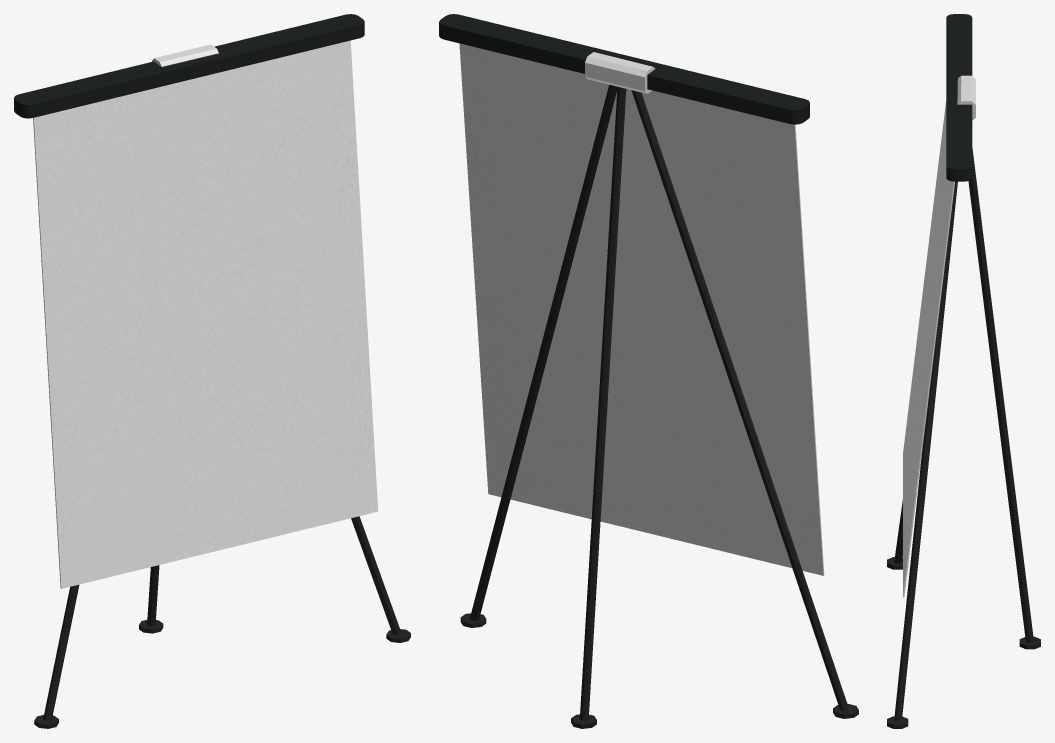
Rendered from whiteboard_2.glb.
3 views of the same model, side by side, from view 1: azimuth 30°, elevation 25°; view 2: azimuth 150°, elevation 25°; view 3: azimuth 270°, elevation 25° (orthographic). The views are drawn at different scales.
Parts seen in each view (by area): view 1: whiteboard_2; view 2: whiteboard_2; view 3: whiteboard_2.
Boxes of the visible parts, x1,y1,x2,y2 form: whiteboard_2: [14, 14, 410, 728]; whiteboard_2: [439, 14, 858, 728]; whiteboard_2: [887, 14, 1040, 728].
Size of what is drawn, in the model's own units: 1.72 by 2.66 by 0.6662.
3 materials, 3 textured.
